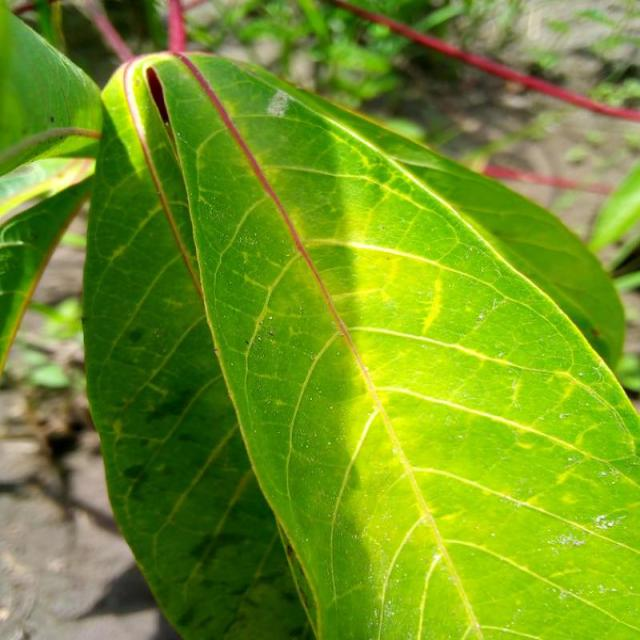cassava leaf: (80, 47, 638, 638)
